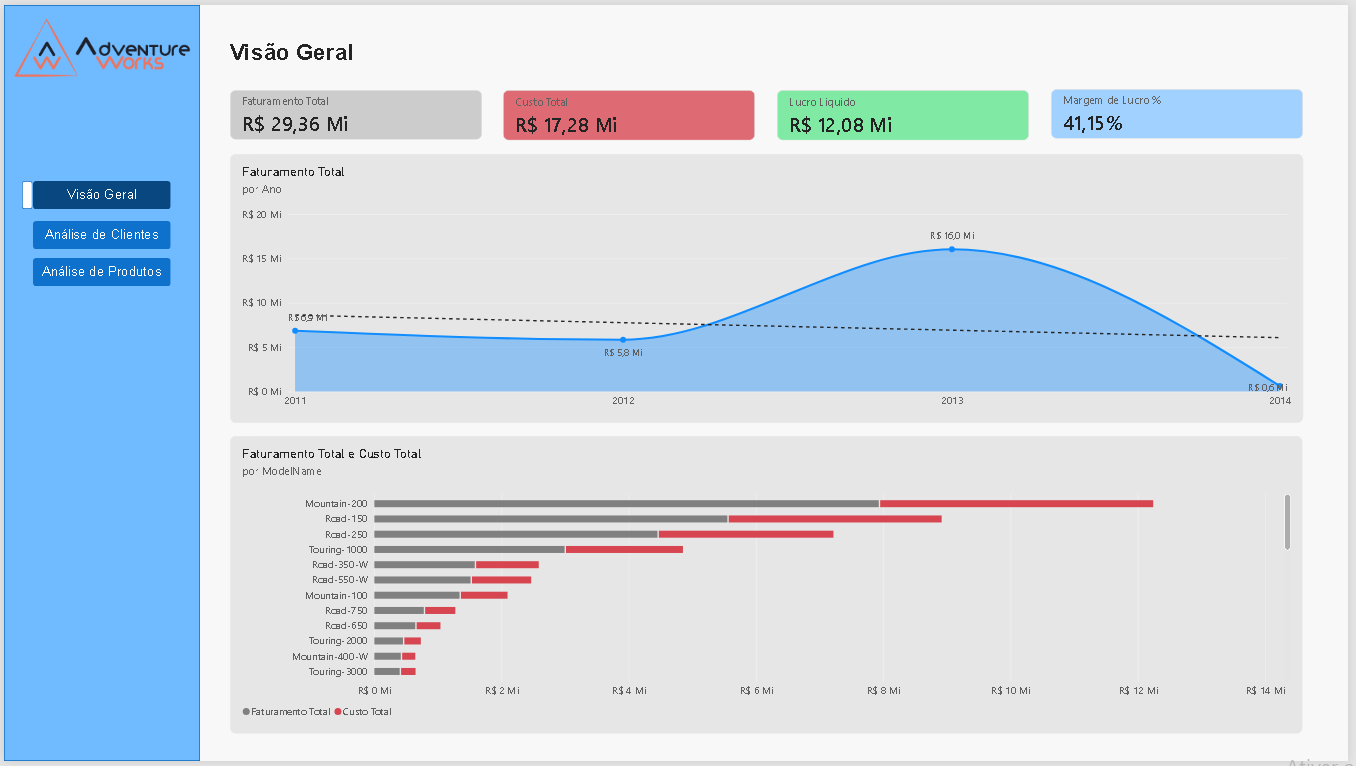

This screenshot's page, from the dashboard's own definition file:
{"tool":"powerbi","page":{"name":"Visão Geral","canvas":[1920,1080],"ordinal":0},"visuals":[{"type":"shape","box":[0,0,280,1080],"z":0},{"type":"image","box":[0,0,280,122],"z":1000},{"type":"textbox","box":[323.3,48.3,360,40],"z":2000},{"type":"cardVisual","fields":{"Data":["FactInternetSales.Faturamento Total"]},"box":[323.3,121.7,360,71.7],"z":3000},{"type":"cardVisual","fields":{"Data":["FactInternetSales.Custo Total"]},"box":[712.5,121.2,360,72],"z":4000},{"type":"cardVisual","fields":{"Data":["FactInternetSales.Lucro Liquido"]},"box":[1103.8,121.2,360,72],"z":5000},{"type":"cardVisual","fields":{"Data":["FactInternetSales.Margem de Lucro %"]},"box":[1495,120,360,71.7],"z":6000},{"type":"lineChart","title":"Evolução do Faturamento","fields":{"Category":["DimDate.FullDateAlternateKey.Variation.Hierarquia de datas.Ano","DimDate.FullDateAlternateKey.Variation.Hierarquia de datas.Trimestre","DimDate.FullDateAlternateKey.Variation.Hierarquia de datas.Mês","DimDate.FullDateAlternateKey.Variation.Hierarquia de datas.Dia"],"Y":["FactInternetSales.Faturamento Total"]},"box":[322.9,212.9,1532.9,384.3],"z":7000},{"type":"barChart","title":"Faturamento e Custo por Modelo","fields":{"Category":["DimProduct.ModelName"],"Y":["FactInternetSales.Faturamento Total","FactInternetSales.Custo Total"]},"box":[323.3,615,1531.7,425],"z":8000},{"type":"actionButton","box":[41.7,250.8,196.7,40],"z":9000},{"type":"actionButton","box":[41.7,308.3,196.7,40],"z":10000},{"type":"shape","box":[25,251.5,12,40],"z":11000},{"type":"actionButton","box":[41.7,361.2,196.7,40],"z":11001}]}

Visuals, with their boxes on the page's 1920x1080 design canvas (x1, y1, x2, y2). These are canvas units, not pixel positions in the 1356x766 screenshot, which may show the page scaled, cropped or inside an application window:
shape: 0 0 280 1080
image: 0 0 280 122
textbox: 323 48 683 88
cardVisual - FactInternetSales.Faturamento Total: 323 122 683 193
cardVisual - FactInternetSales.Custo Total: 712 121 1072 193
cardVisual - FactInternetSales.Lucro Liquido: 1104 121 1464 193
cardVisual - FactInternetSales.Margem de Lucro %: 1495 120 1855 192
"Evolução do Faturamento" lineChart: 323 213 1856 597
"Faturamento e Custo por Modelo" barChart: 323 615 1855 1040
actionButton: 42 251 238 291
actionButton: 42 308 238 348
shape: 25 252 37 292
actionButton: 42 361 238 401
